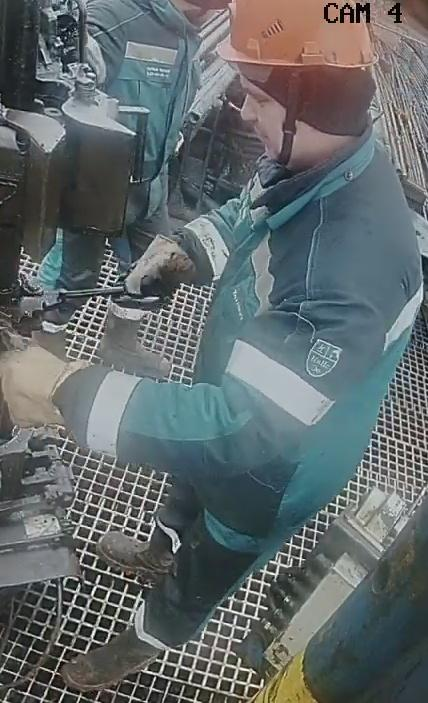gloves: (0, 343, 116, 435), (112, 230, 211, 298)
helmet: (215, 0, 382, 107)
vest: (188, 126, 424, 540), (82, 0, 202, 184)
